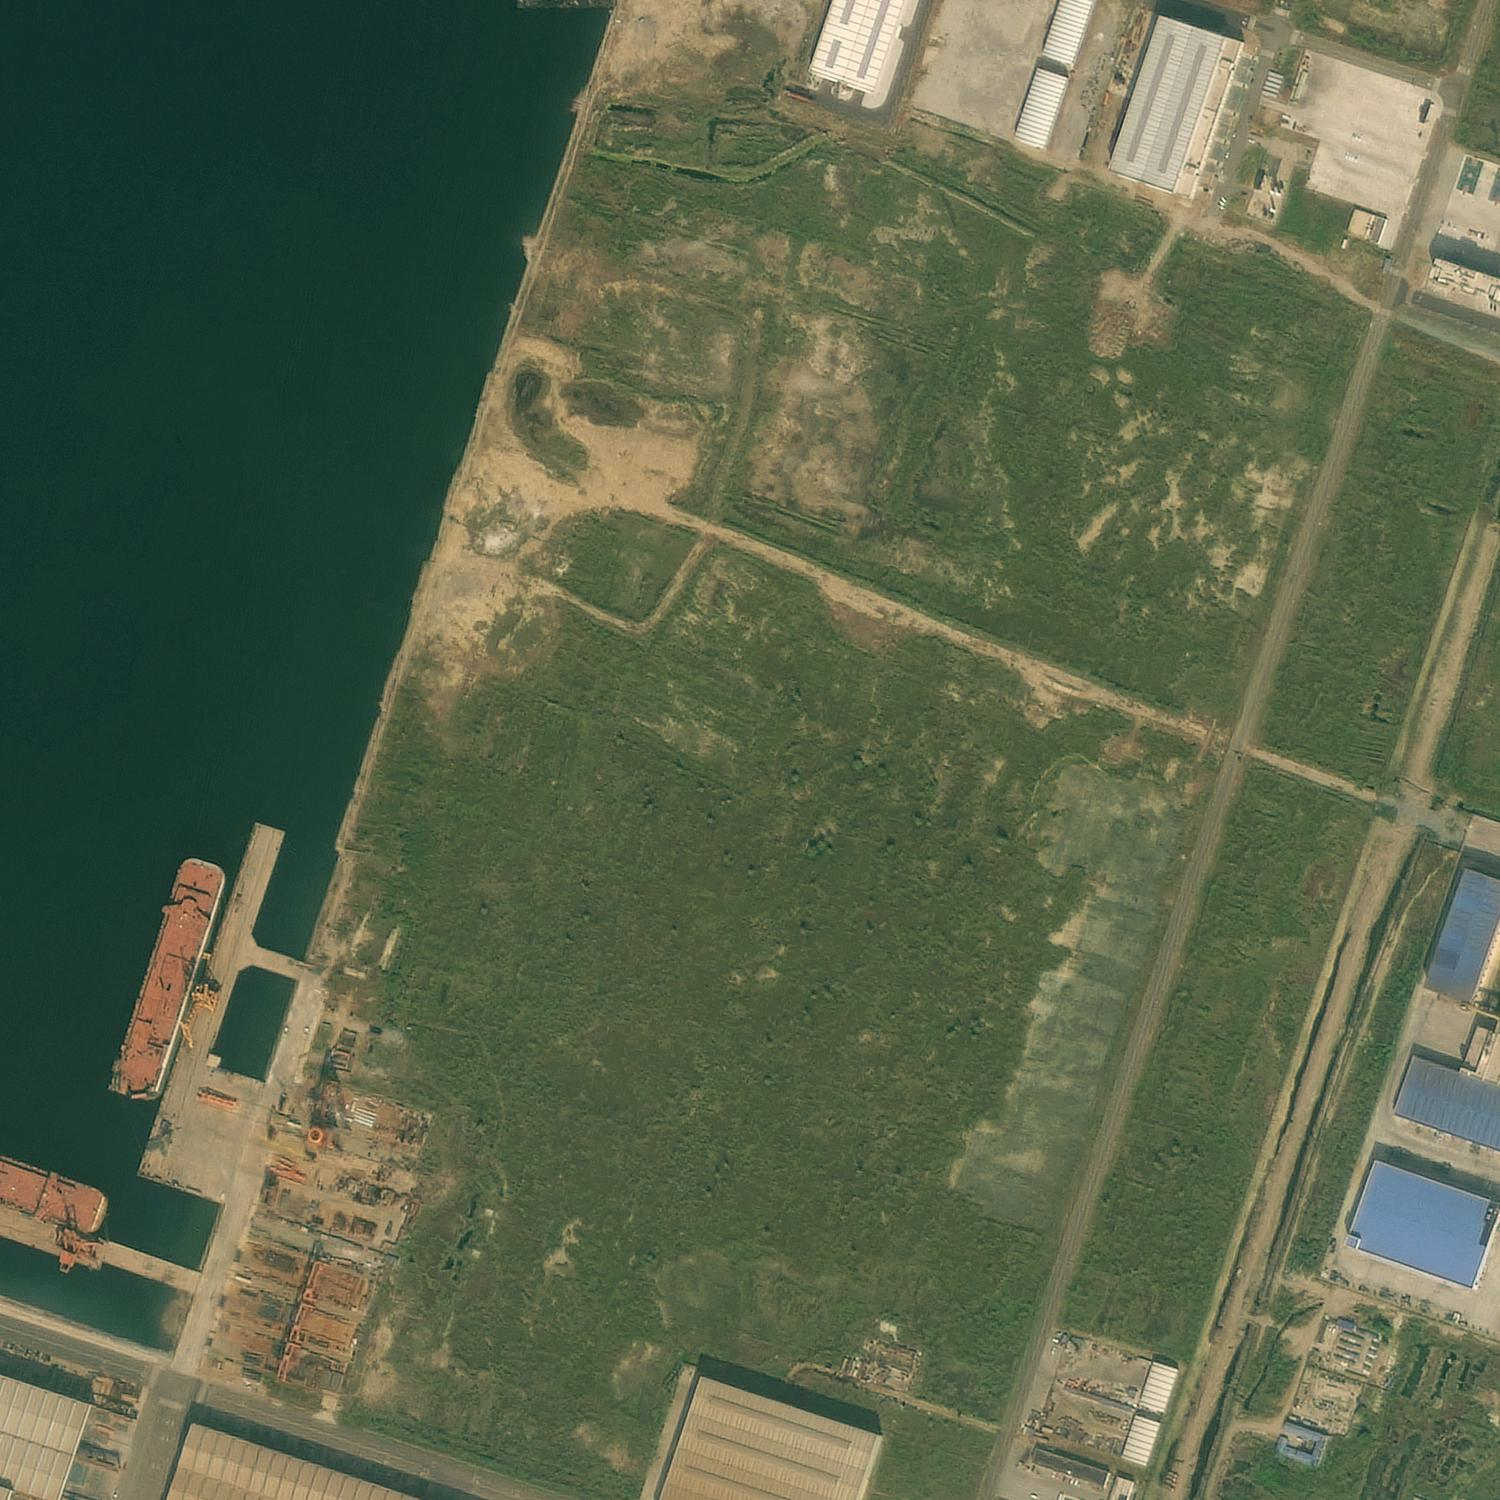A20: (128, 152, 197, 207), (45, 143, 124, 187), (108, 299, 177, 348), (231, 280, 307, 323), (79, 155, 150, 200), (179, 327, 250, 371), (204, 342, 274, 387), (144, 123, 210, 169), (116, 338, 185, 380), (133, 368, 204, 410), (41, 102, 100, 150), (103, 80, 175, 118), (199, 76, 268, 115), (85, 115, 156, 152), (163, 276, 234, 313), (177, 304, 244, 339), (140, 101, 202, 137)
